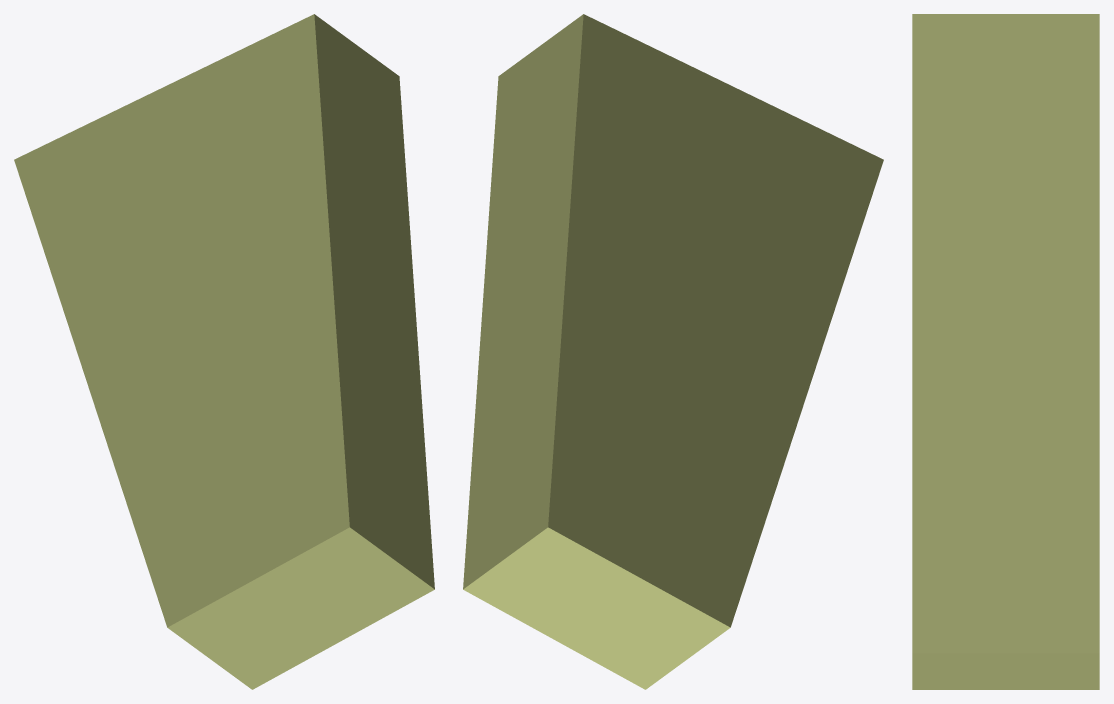
3 renders of one model, left to right at view 1: azimuth 30°, elevation 25°; view 2: azimuth 150°, elevation 25°; view 3: azimuth 270°, elevation 25°, orthographic. The views are drawn at different scales.
Visible parts, largest first — view 1: 0_1_0_0_1_0_2_0_1_2; view 2: 0_1_0_0_1_0_2_0_1_2; view 3: 0_1_0_0_1_0_2_0_1_2.
Boxes of the visible parts, x1=… form: 0_1_0_0_1_0_2_0_1_2: x1=14, y1=14, x2=434, y2=689; 0_1_0_0_1_0_2_0_1_2: x1=463, y1=14, x2=883, y2=689; 0_1_0_0_1_0_2_0_1_2: x1=912, y1=14, x2=1099, y2=689.
Size of the model in its own units: 13.67 by 22.47 by 6.
